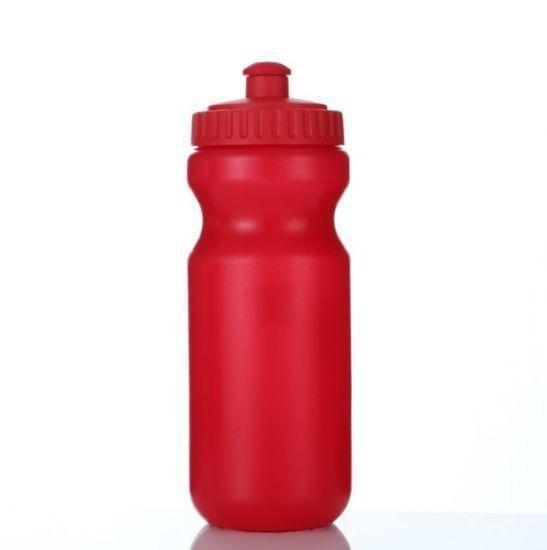gym bottle: (183, 60, 356, 536)
